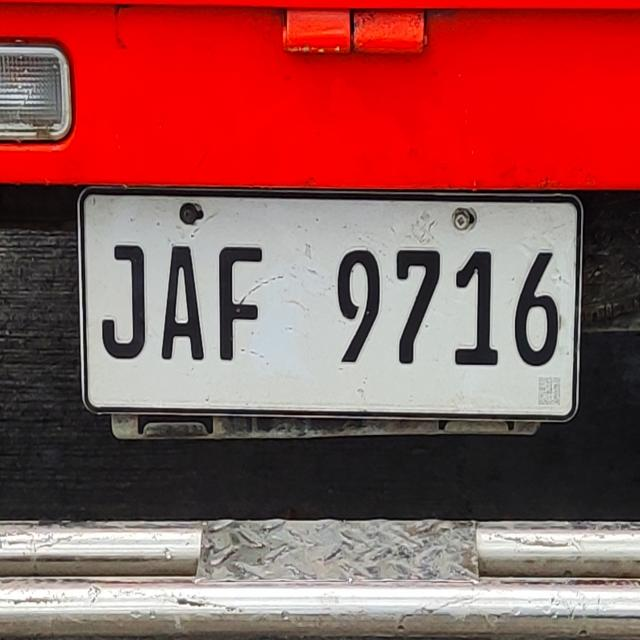plate: (75, 184, 586, 424)
